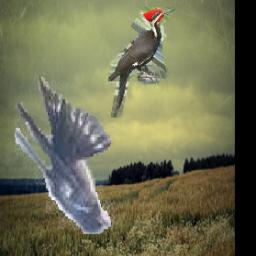Swallow: (14, 73, 114, 235)
Woodpecker: (108, 8, 176, 119)
